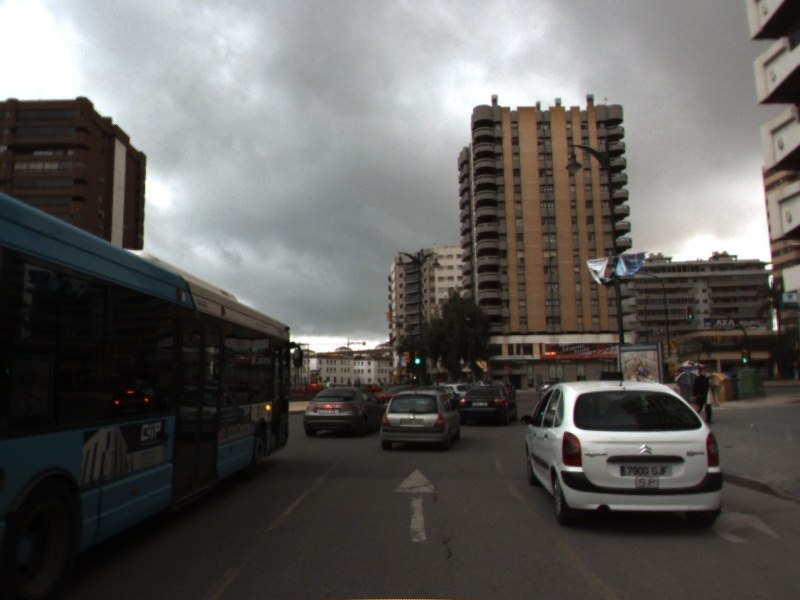STRAIGHT: (390, 466, 443, 545)
